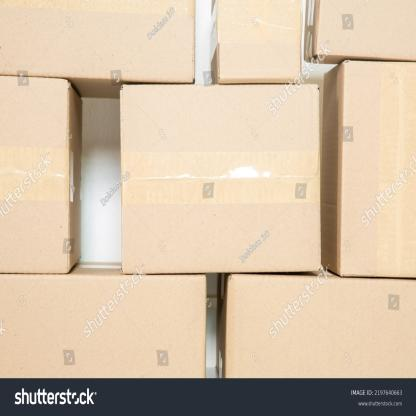box: (122, 84, 320, 276), (0, 274, 206, 376), (224, 273, 416, 377), (339, 60, 416, 278), (0, 0, 195, 84), (0, 75, 70, 274), (217, 0, 304, 84), (316, 0, 416, 62)
